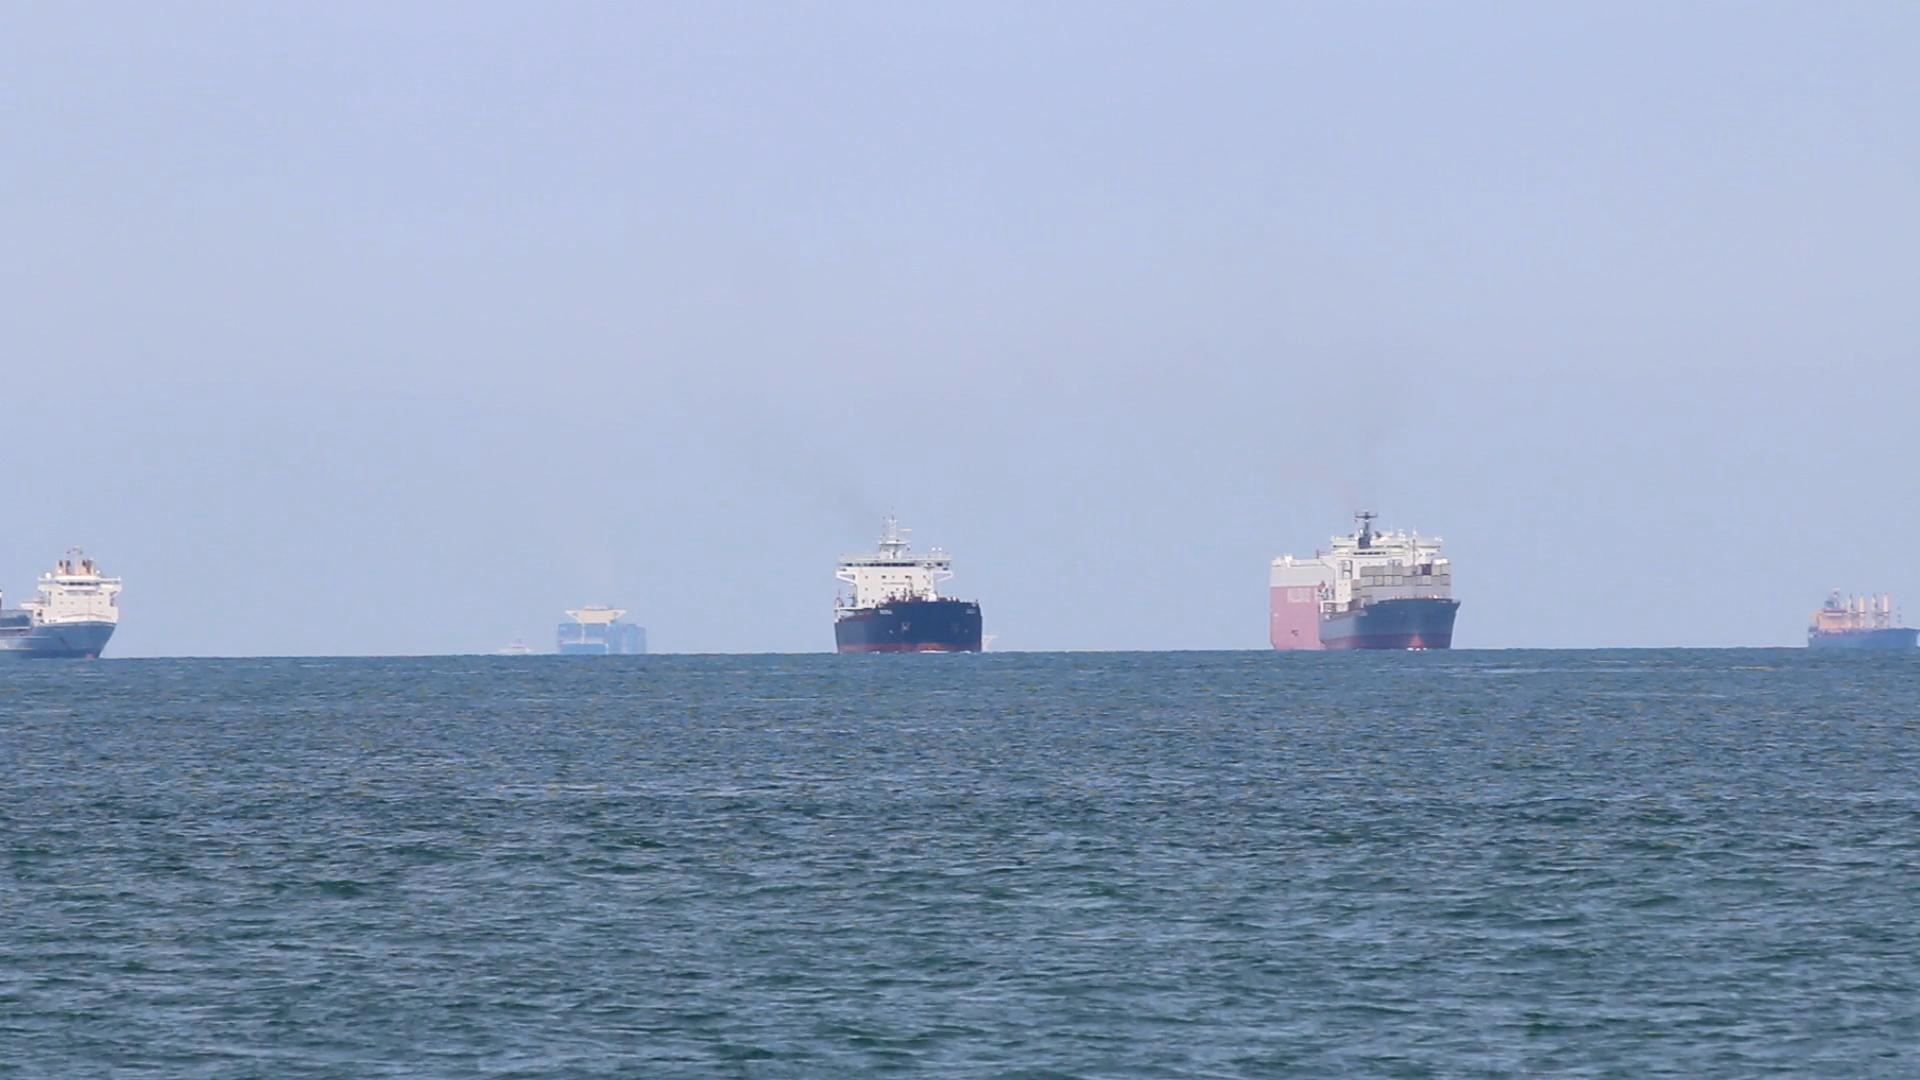Container Ship: (1269, 513, 1464, 659), (831, 514, 985, 662), (3, 545, 128, 669), (1807, 587, 1917, 654), (563, 604, 649, 663), (500, 634, 562, 663)
